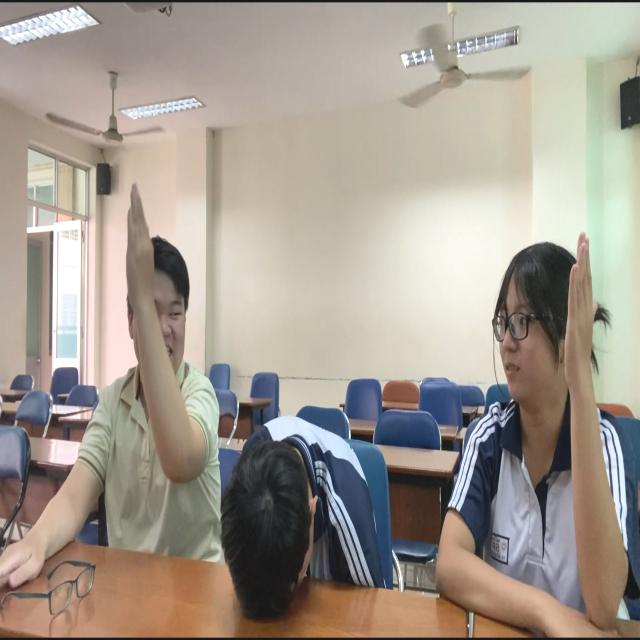raise_hand: (447, 225, 636, 640), (40, 188, 221, 562)
sleep: (222, 406, 401, 614)
